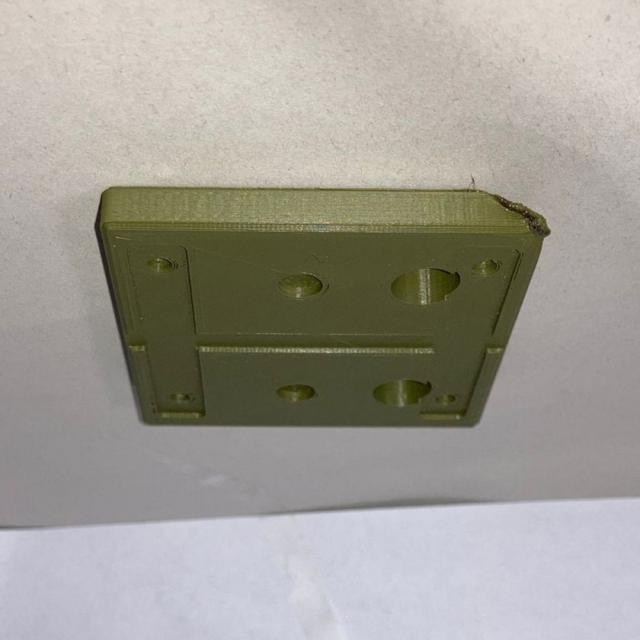Warping: (475, 191, 549, 233)
